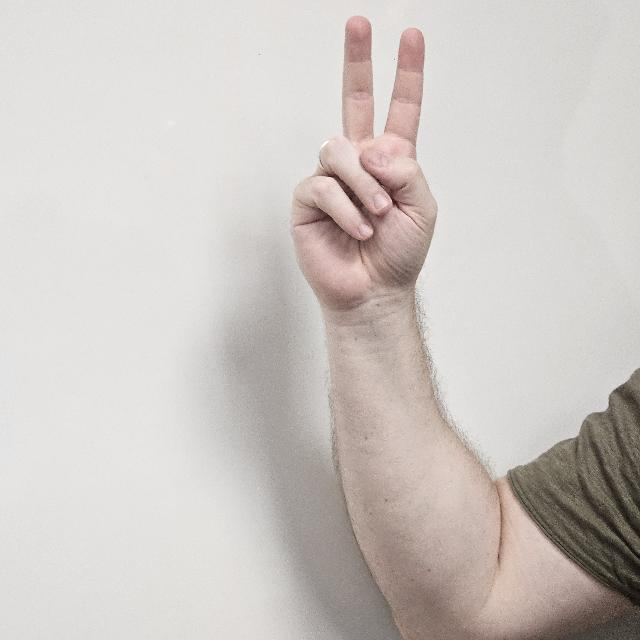Triangulo: (289, 18, 445, 368)
